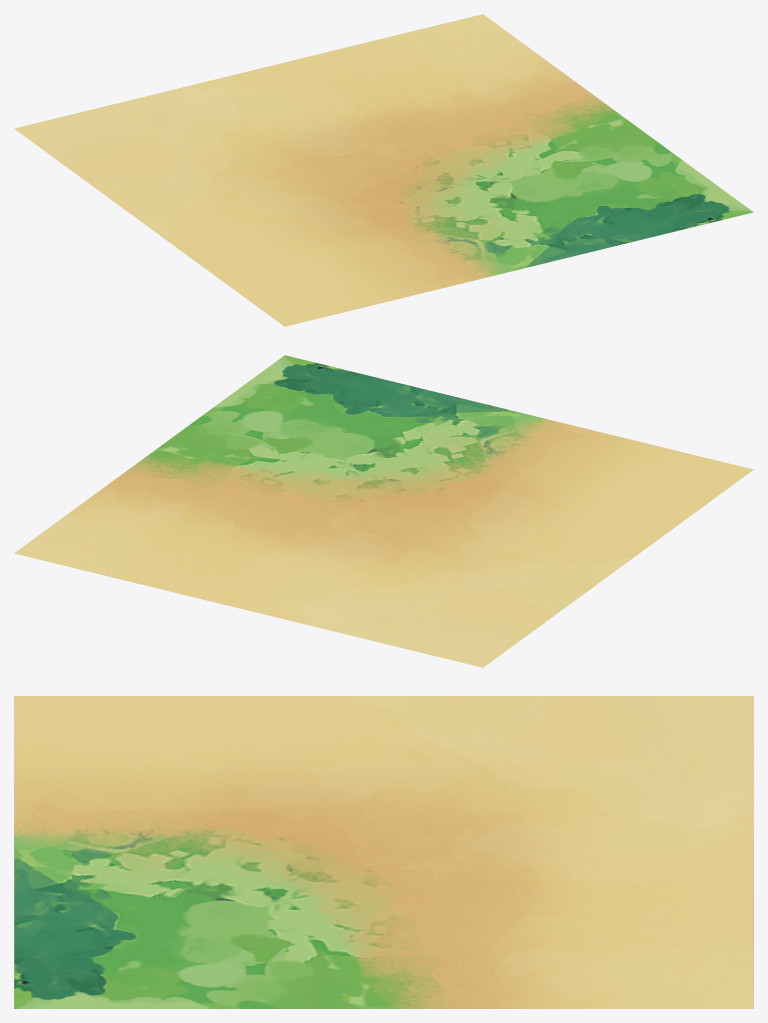
File: env_tiles_mesh_03.fbx
3 views of the same model, one above another, from view 1: azimuth 30°, elevation 25°; view 2: azimuth 150°, elevation 25°; view 3: azimuth 270°, elevation 25° (orthographic). The views are drawn at different scales.
Visible parts, largest first — view 1: T3; view 2: T3; view 3: T3.
Boxes of the visible parts, x1,y1,x2,y2 form: T3: (14,14,753,326); T3: (14,355,753,667); T3: (14,696,753,1008).
Bounding box in the file's own units: 1000 × 0 × 1000.
